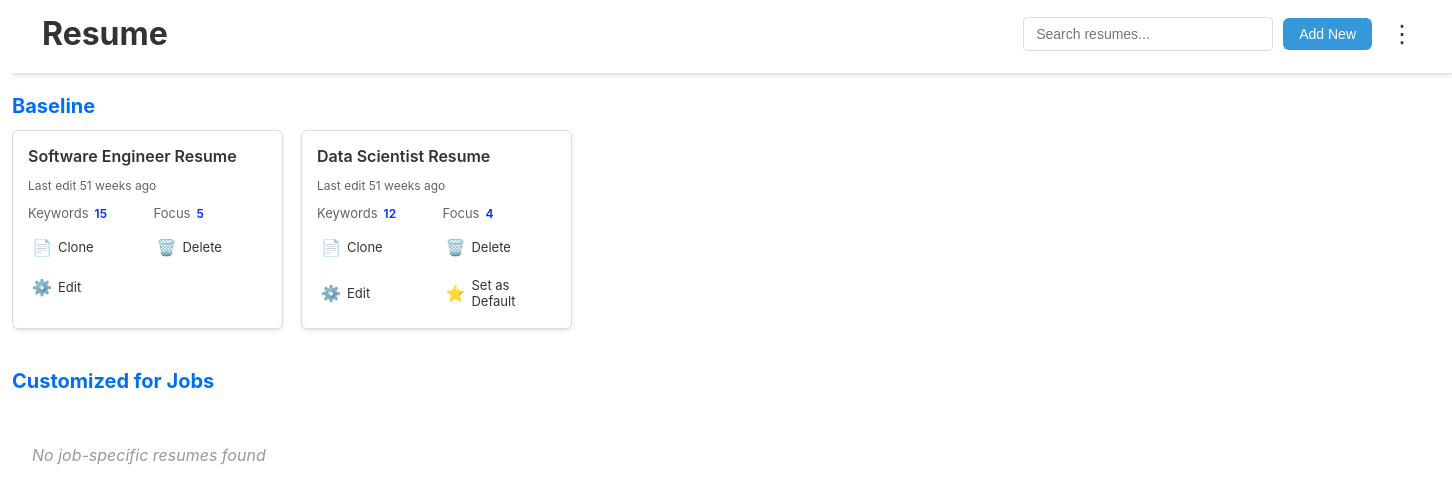
it: Resume Component › Search Functionality › filters baseline resumes by title
The image size is (1452, 482).
expect the text "Software Engineer Resume" is shown: met, box [28,146,267,166]
Type "Software" into the field with placeholder "Search resumes..." at x=1148, y=34, box [1023,16,1273,50]
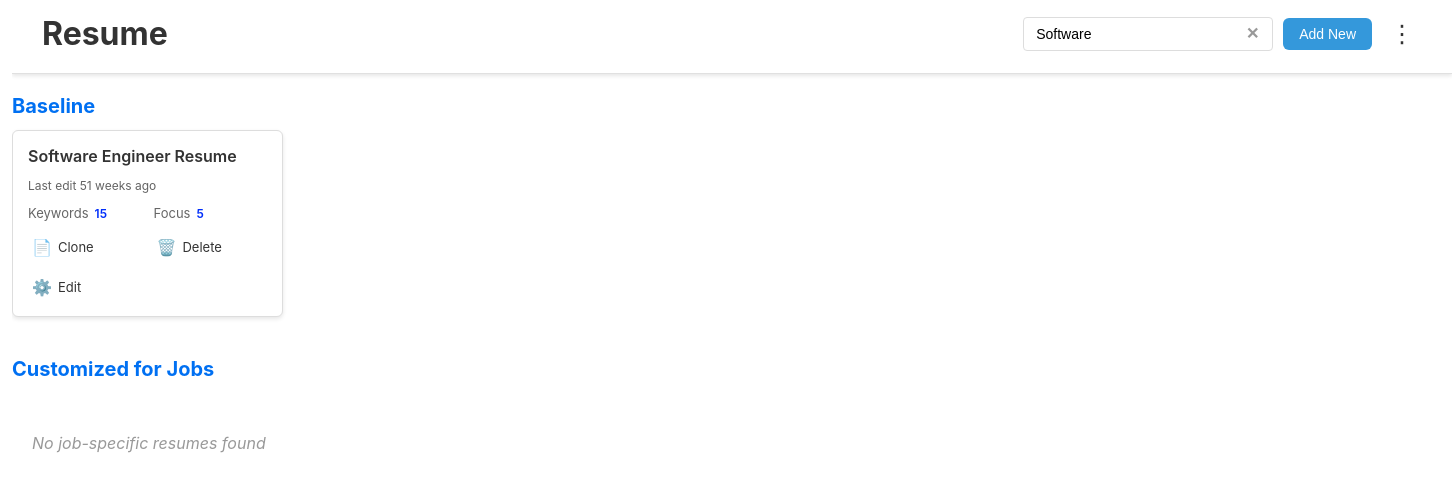
expect the text "Software Engineer Resume" is shown: met, box [28,146,267,166]
expect the text "Data Scientist Resume" is gone: met
